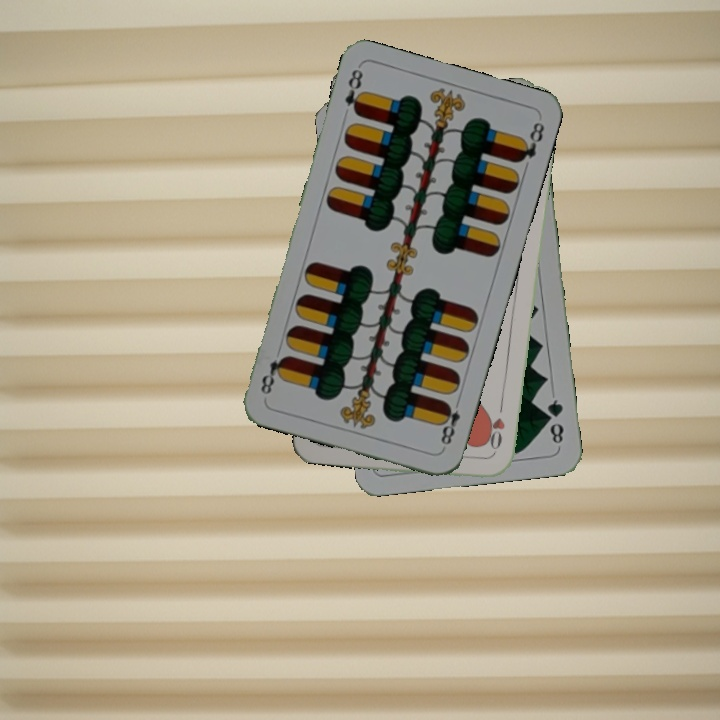E8: (436, 394, 463, 452), (341, 65, 367, 118)
G8: (542, 395, 567, 446)
HO: (486, 398, 508, 457)
